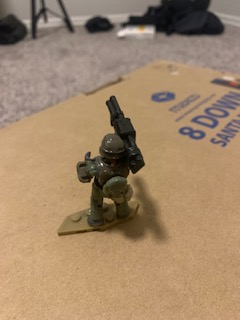soldier: (74, 95, 147, 229)
